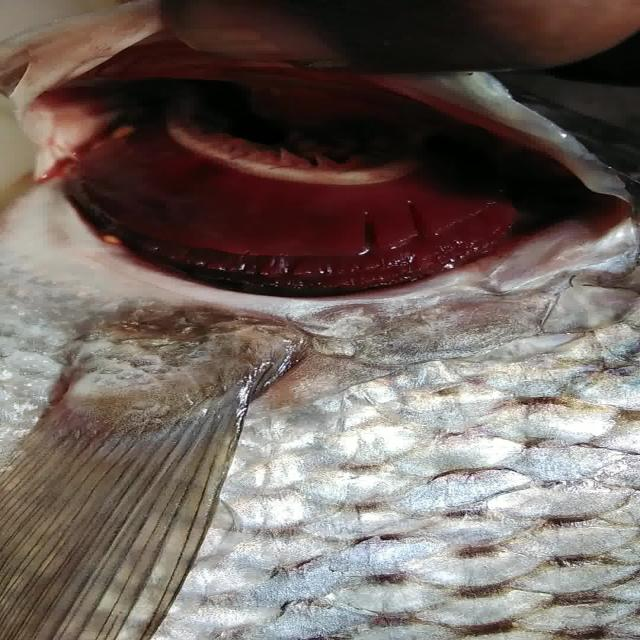Fresh: (33, 84, 604, 310)
